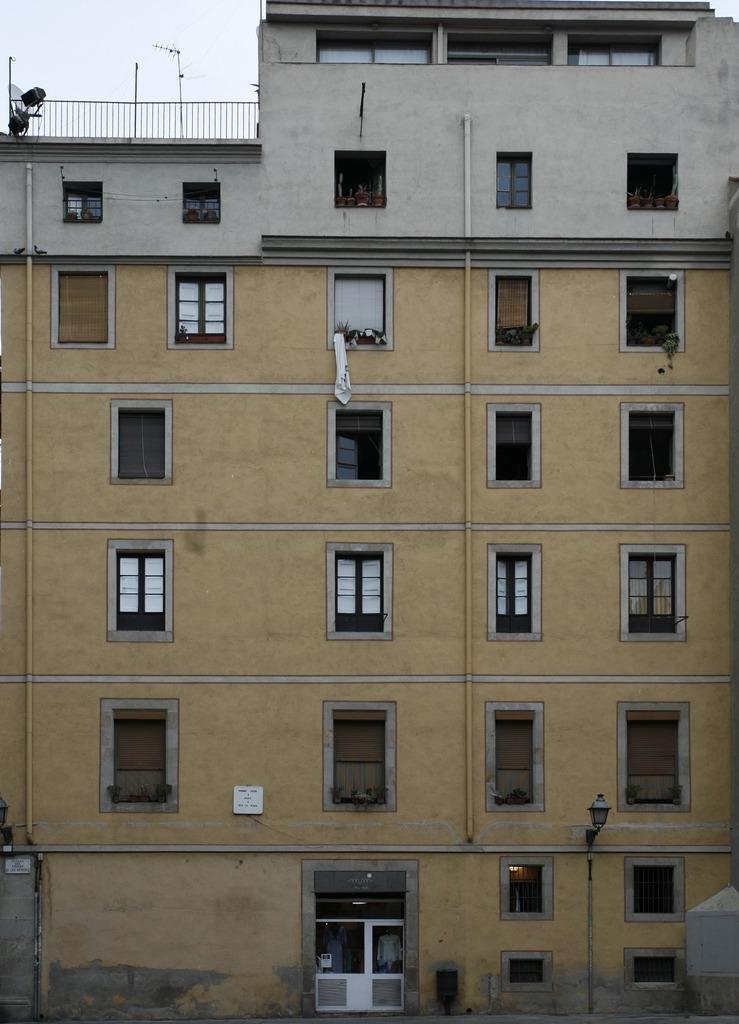window: (115, 710, 170, 803), (627, 711, 681, 804), (333, 709, 387, 801), (316, 29, 433, 66), (334, 553, 384, 633), (117, 551, 166, 632), (176, 272, 228, 346), (59, 271, 111, 345), (629, 553, 676, 634), (627, 277, 679, 347), (335, 275, 387, 344), (497, 709, 534, 805), (447, 33, 555, 65), (119, 408, 166, 479), (336, 410, 382, 482), (630, 412, 675, 482), (496, 555, 534, 634), (569, 35, 664, 66), (336, 152, 388, 207), (628, 155, 680, 210), (497, 413, 533, 480), (496, 278, 532, 345), (634, 866, 675, 914), (499, 153, 533, 210), (510, 865, 545, 914), (181, 183, 221, 225), (63, 181, 103, 222), (635, 958, 676, 984), (510, 960, 544, 984)
